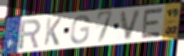7: (94, 9, 114, 46)
E: (139, 6, 165, 40)
G: (69, 14, 92, 45)
K: (43, 17, 63, 47)
R: (17, 18, 43, 51)
V: (119, 8, 144, 42)
